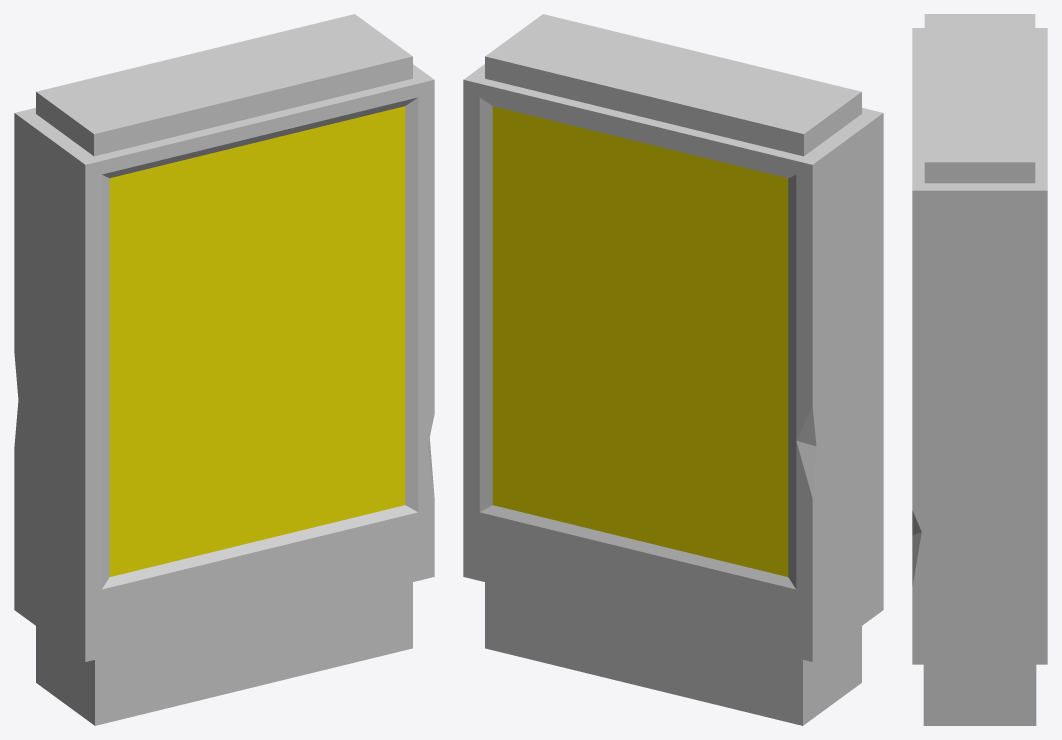
The model's file is SM_Prop_Ad_Screen_01.glb.
3 renders of one model, left to right at view 1: azimuth 30°, elevation 25°; view 2: azimuth 150°, elevation 25°; view 3: azimuth 270°, elevation 25°, orthographic. The views are drawn at different scales.
Visible parts, largest first — view 1: SM_Prop_Ad_Screen_01, SM_Prop_Ad_Screen_Video_01; view 2: SM_Prop_Ad_Screen_01, SM_Prop_Ad_Screen_Video_01; view 3: SM_Prop_Ad_Screen_01.
Boxes of the visible parts, left/top/right/bottom form: SM_Prop_Ad_Screen_01: left=14, top=14, right=434, bottom=725; SM_Prop_Ad_Screen_Video_01: left=109, top=106, right=405, bottom=576; SM_Prop_Ad_Screen_01: left=463, top=14, right=883, bottom=725; SM_Prop_Ad_Screen_Video_01: left=492, top=106, right=788, bottom=576; SM_Prop_Ad_Screen_01: left=912, top=14, right=1047, bottom=725.
Bounding box in the file's own units: 1.46 × 2.36 × 0.5137.
